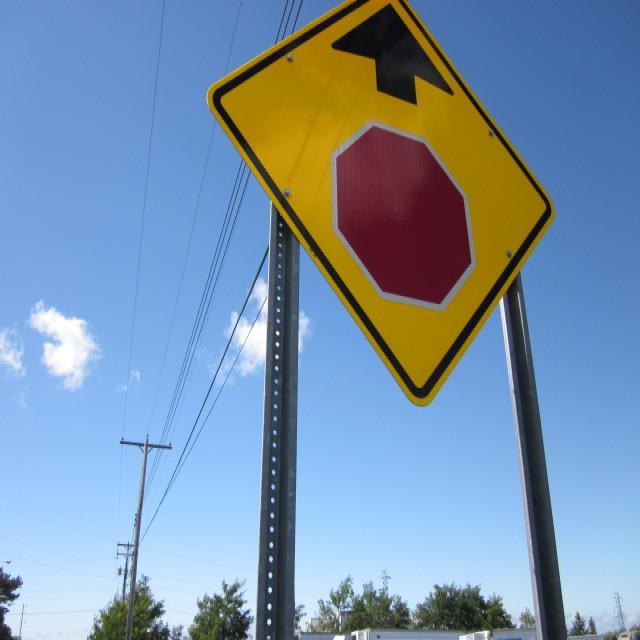stop: (330, 116, 482, 317)
warning: (204, 0, 562, 417)
